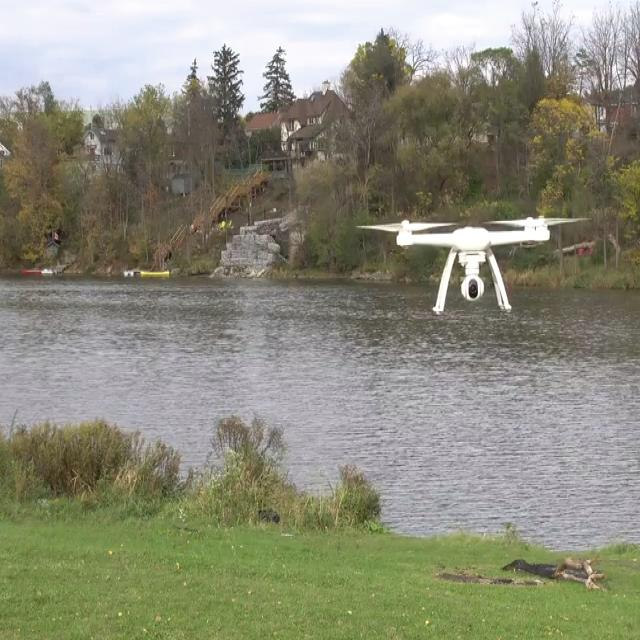drone: (357, 204, 578, 282)
